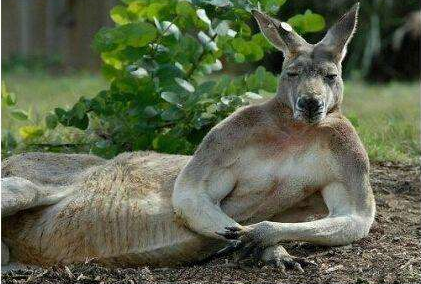kangaroo: (2, 3, 377, 278)
